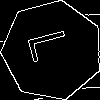L: (27, 25, 79, 64)
